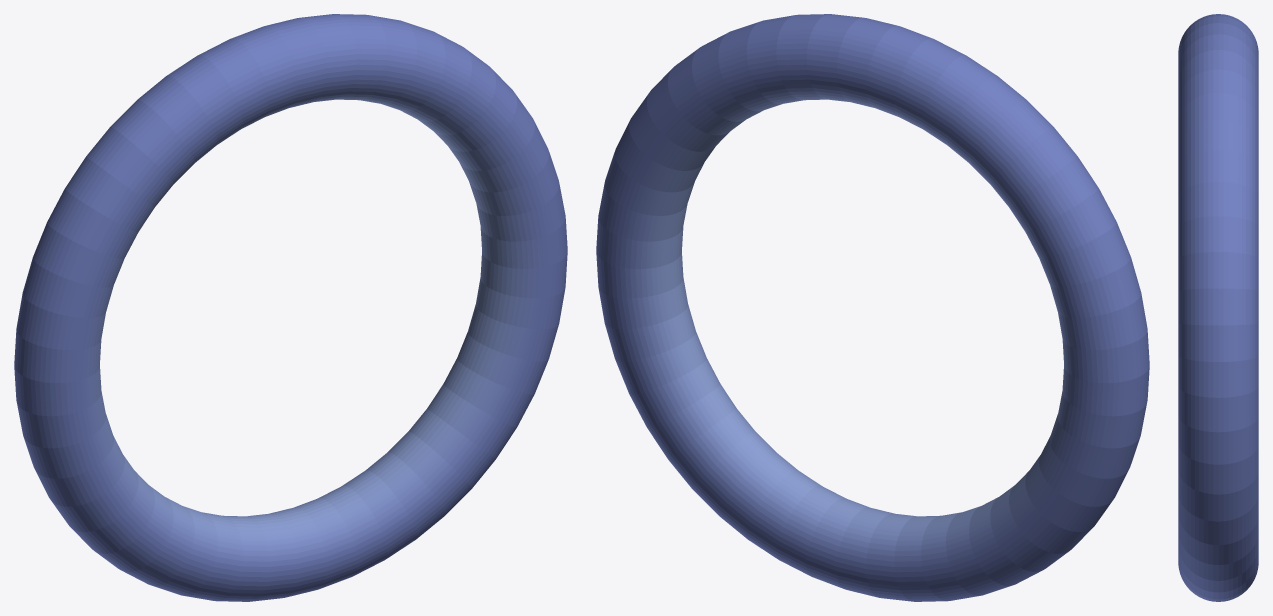
3 views of the same model, side by side, from view 1: azimuth 30°, elevation 25°; view 2: azimuth 150°, elevation 25°; view 3: azimuth 270°, elevation 25° (orthographic). The views are drawn at different scales.
Parts seen in each view (by area): view 1: world; view 2: world; view 3: world.
Boxes of the visible parts, <box> form: world: <box>14,14,567,601</box>; world: <box>596,14,1149,601</box>; world: <box>1178,14,1258,601</box>.
Bounding box in the file's own units: 22.4 × 22.36 × 3.06.
